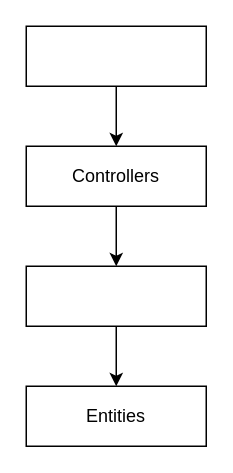
The diagram is 233 pixels wide and 473 high, and some of its shapes have lost their labels. The centre of each missing label's shape, as x and y in pixels:
UI: (115,55)
Use Cases: (115,295)
